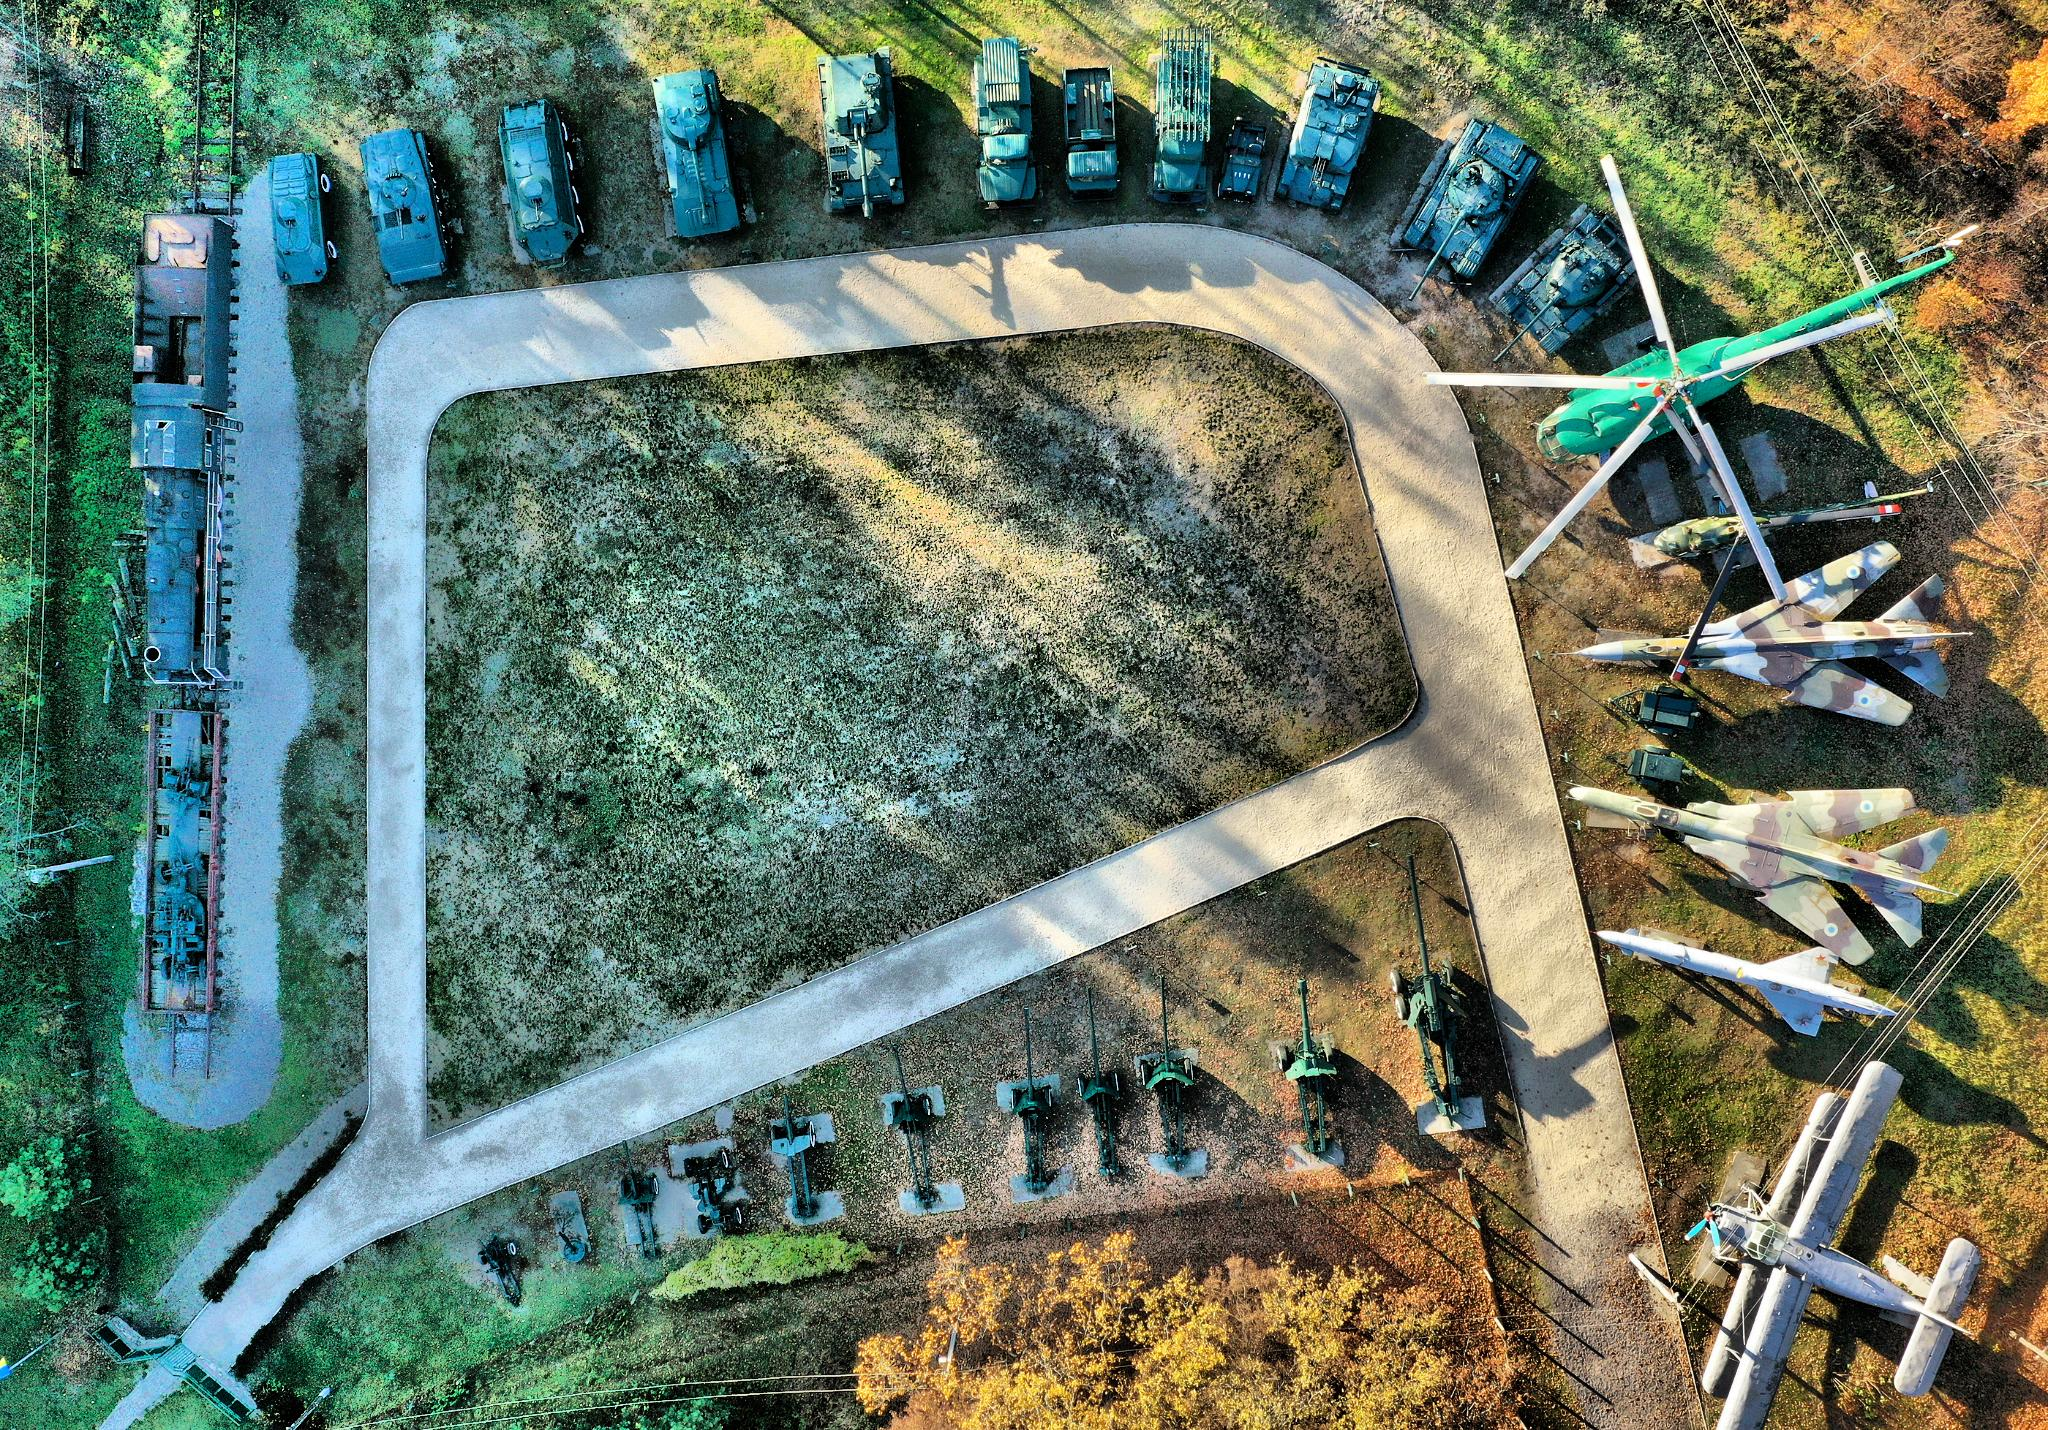military-vehicle: (1401, 120, 1542, 300), (1494, 205, 1636, 367), (1275, 58, 1379, 215), (815, 47, 906, 218), (654, 68, 742, 240), (496, 100, 585, 266), (363, 129, 454, 288), (973, 36, 1040, 210), (1152, 30, 1211, 205), (269, 151, 338, 289), (1061, 62, 1120, 202), (1215, 117, 1267, 201)
